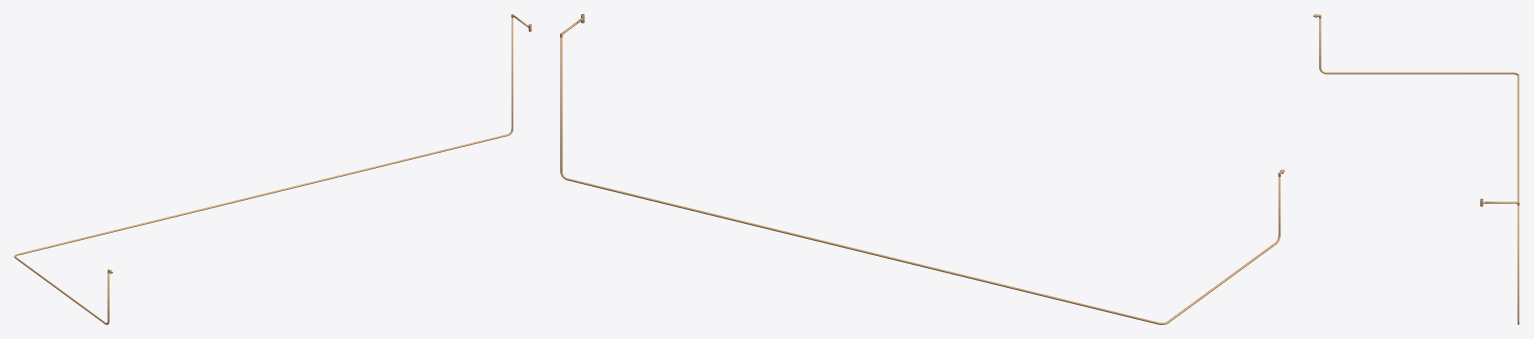
Rendered from slab_pipes_supply__water-well_and_plumbing-copper.glb.
The picture shows the model from 3 angles, left to right: view 1: azimuth 30°, elevation 25°; view 2: azimuth 150°, elevation 25°; view 3: azimuth 270°, elevation 25°; orthographic projection. The views are drawn at different scales.
Visible parts, largest first — view 1: pipe_supply_branch_hosebib_front_well__copper; view 2: pipe_supply_branch_hosebib_front_well__copper; view 3: pipe_supply_branch_hosebib_front_well__copper.
Part boxes in pixels (x1=…): pipe_supply_branch_hosebib_front_well__copper: x1=14, y1=15, x2=528, y2=324; pipe_supply_branch_hosebib_front_well__copper: x1=560, y1=19, x2=1280, y2=324; pipe_supply_branch_hosebib_front_well__copper: x1=1319, y1=18, x2=1519, y2=324.
Size of the model in its own units: 4.91 by 1.15 by 1.68.
